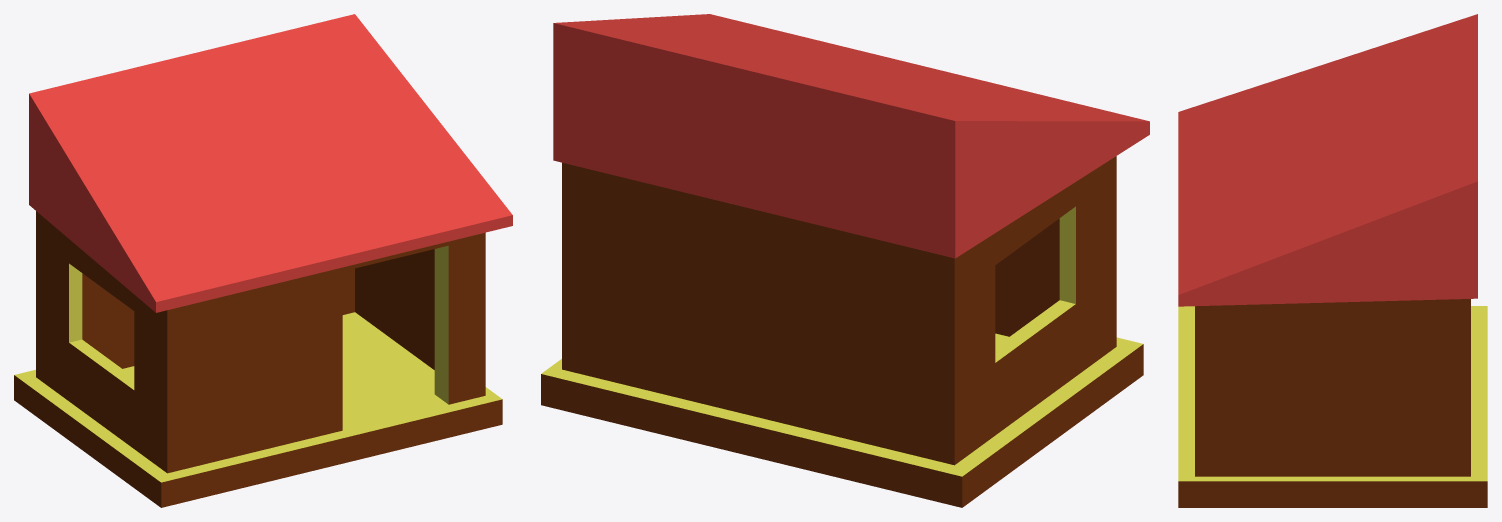
File: hut.fbx
The picture shows the model from 3 angles, left to right: view 1: azimuth 30°, elevation 25°; view 2: azimuth 150°, elevation 25°; view 3: azimuth 270°, elevation 25°; orthographic projection. The views are drawn at different scales.
Parts seen in each view (by area): view 1: Cube; view 2: Cube; view 3: Cube.
Boxes of the visible parts, left/top/right/bottom form: Cube: left=14, top=14, right=512, bottom=507; Cube: left=541, top=14, right=1149, bottom=507; Cube: left=1178, top=14, right=1487, bottom=507.
Size of the model in its own units: 528 by 435 by 377.
